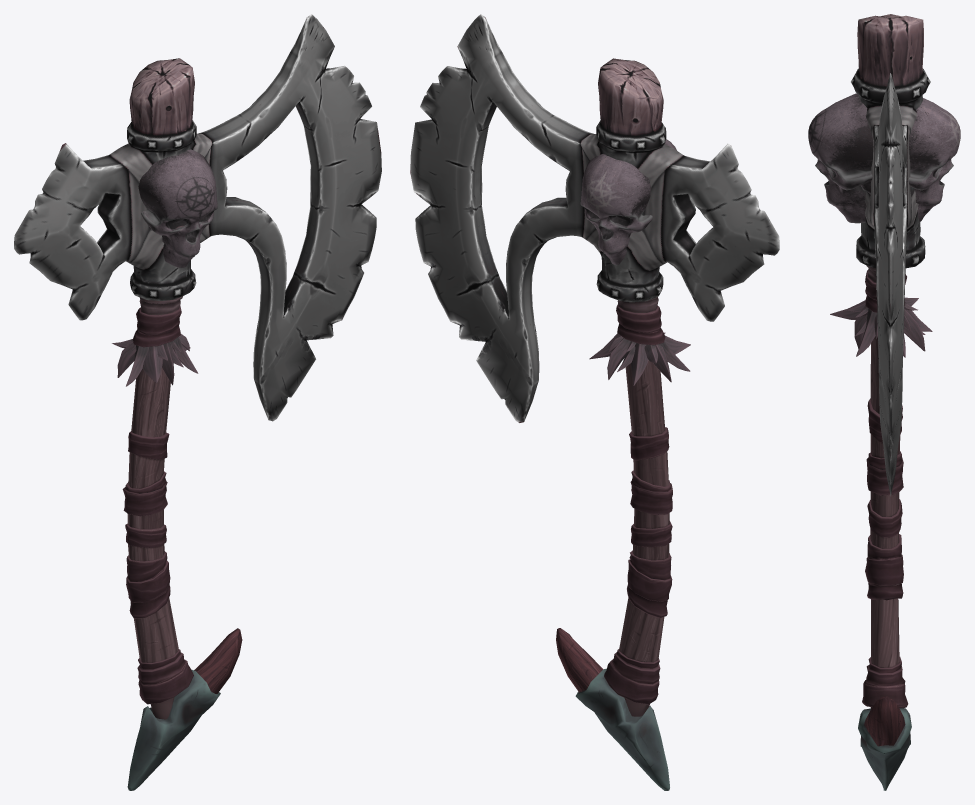
File: LuthaAXE.fbx
3 renders of one model, left to right at view 1: azimuth 30°, elevation 25°; view 2: azimuth 150°, elevation 25°; view 3: azimuth 270°, elevation 25°, orthographic. The views are drawn at different scales.
Parts seen in each view (by area): view 1: LuthaAXE; view 2: LuthaAXE; view 3: LuthaAXE.
Boxes of the visible parts, x1,y1,x2,y2 form: LuthaAXE: (14, 14, 381, 790); LuthaAXE: (410, 14, 779, 790); LuthaAXE: (808, 14, 960, 790).
Bounding box in the file's own units: 0.5719 × 1.09 × 0.1836.
Materials: 1 (1 with a texture image).
